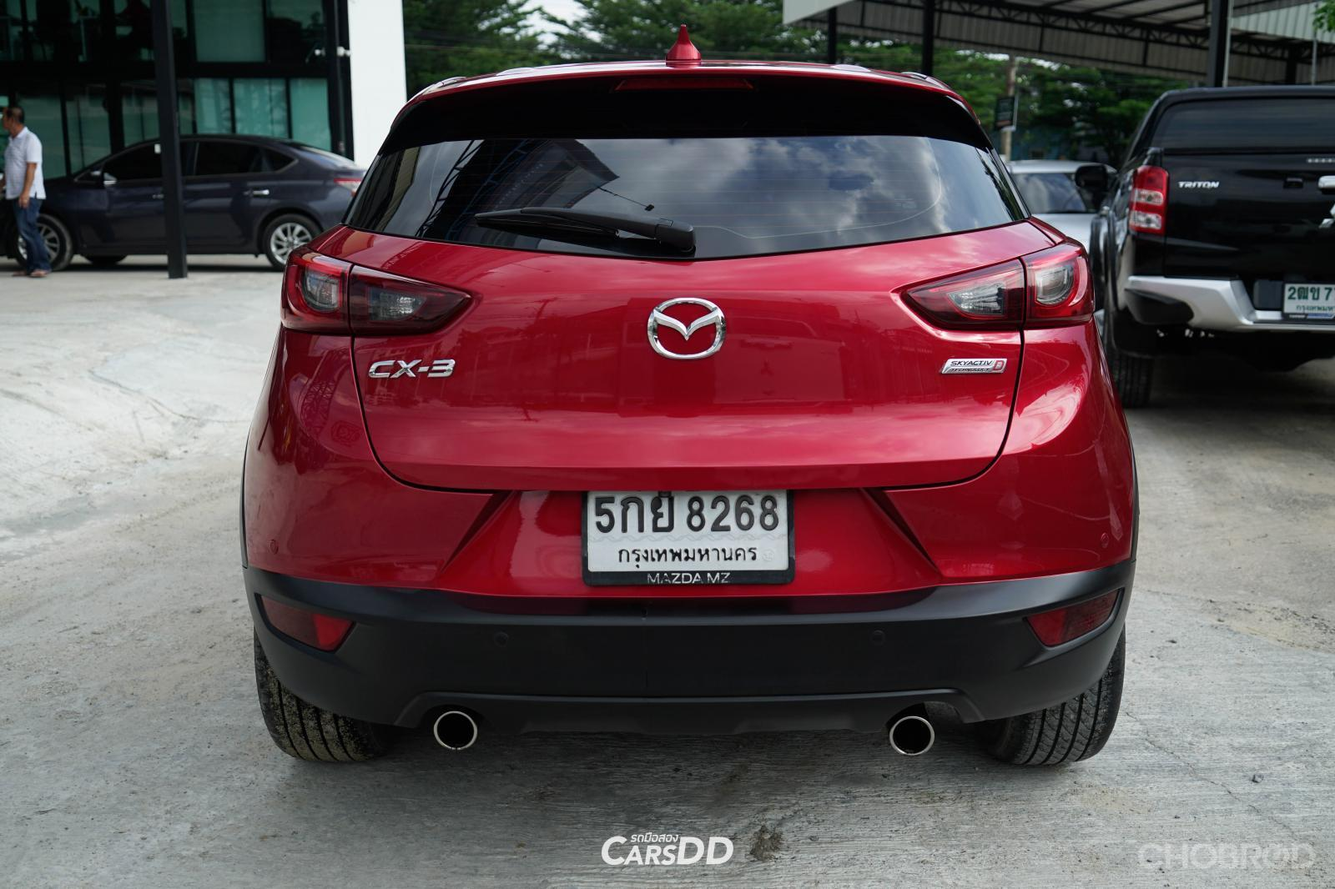license-plate: (576, 478, 801, 586)
